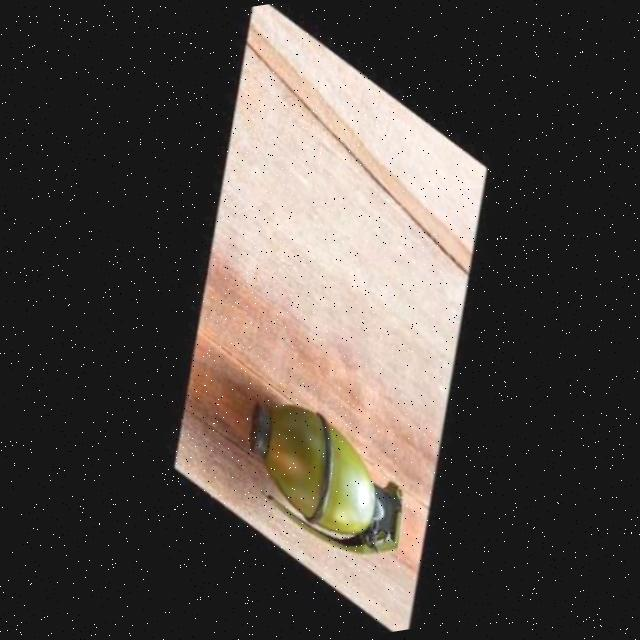grenade: (221, 346, 437, 600)
